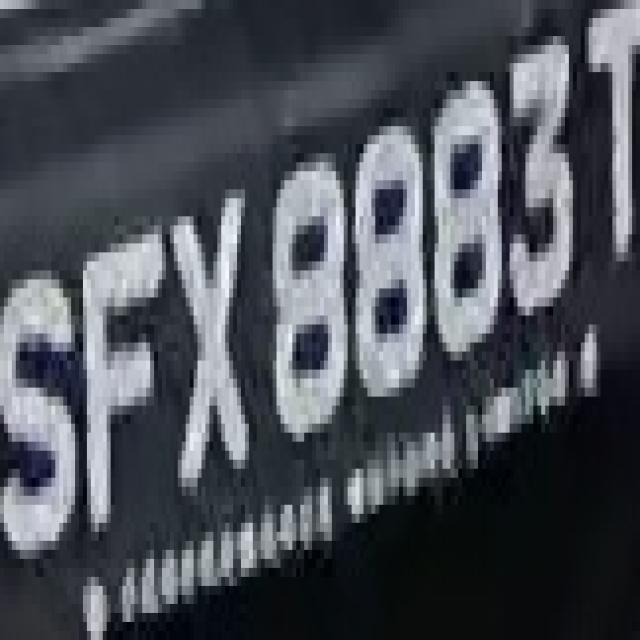3: (502, 18, 577, 343)
8: (348, 99, 434, 433), (264, 162, 352, 478), (426, 63, 509, 379)
F: (91, 207, 174, 523)
S: (16, 234, 71, 586)
T: (581, 0, 632, 334)
X: (166, 153, 257, 514)
